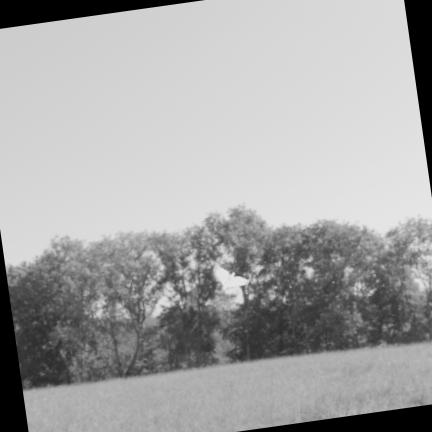Shahed: (214, 265, 248, 287)
